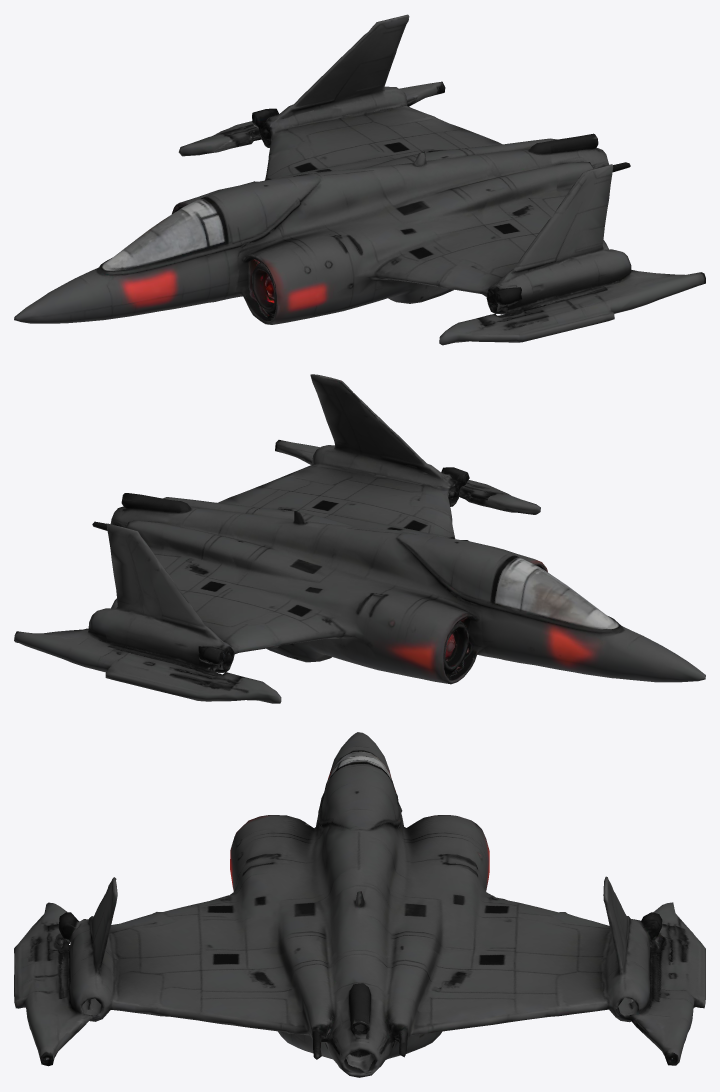
Rendered from ship.glb.
3 renders of one model, top to bottom at view 1: azimuth 30°, elevation 25°; view 2: azimuth 150°, elevation 25°; view 3: azimuth 270°, elevation 25°, orthographic. The views are drawn at different scales.
Visible parts, largest first — view 1: Mesh1.0; view 2: Mesh1.0; view 3: Mesh1.0.
Part boxes in pixels (left/top/right/bottom): Mesh1.0: left=14, top=14, right=705, bottom=345; Mesh1.0: left=14, top=374, right=705, bottom=703; Mesh1.0: left=14, top=732, right=705, bottom=1077.
Size of the model in its own units: 1.93 by 0.4842 by 1.61.
Materials: 1 (1 with a texture image).
